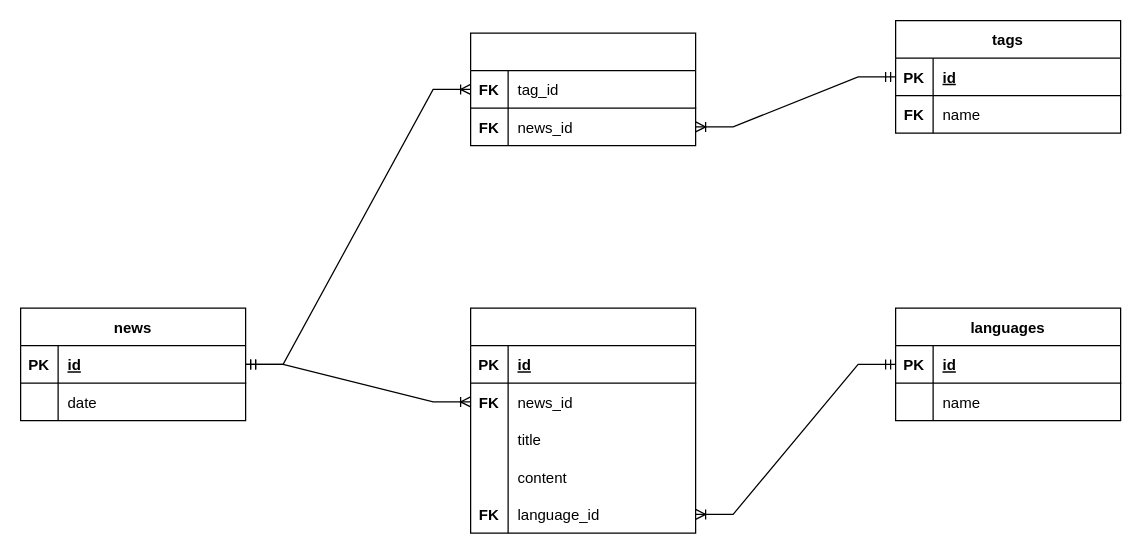
The diagram is 1141 pixels wide and 554 high, and some of its shapes have lost their labels. Each missing label, with the box of its shape:
news_tag: (469, 32, 696, 146)
news_translates: (469, 307, 696, 533)
